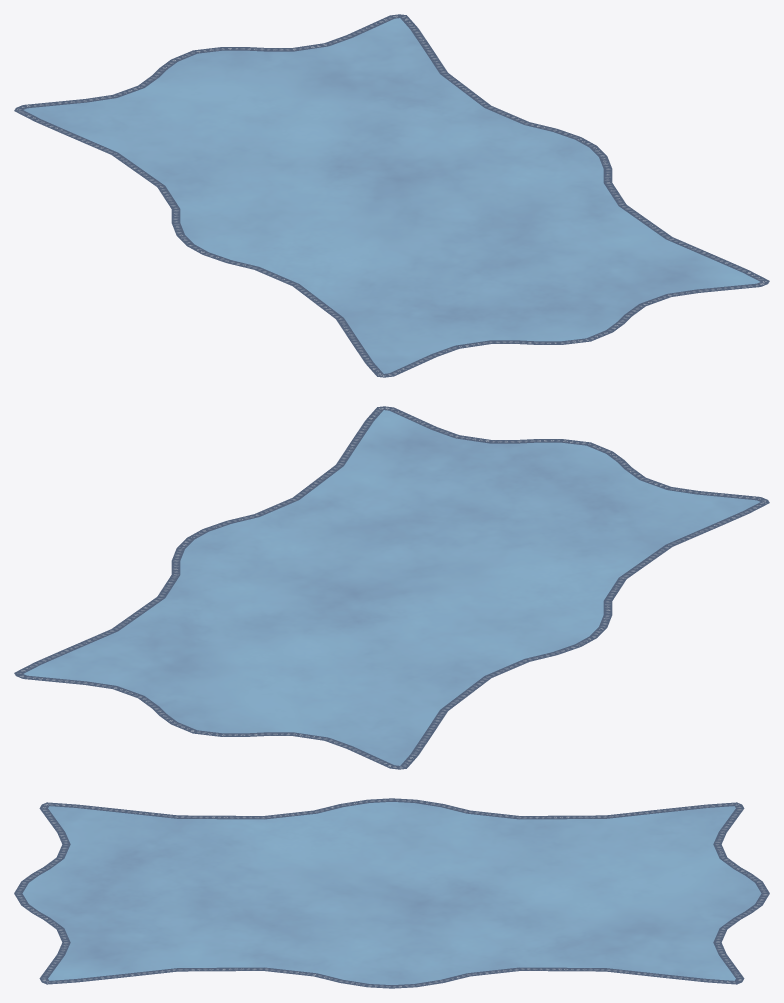
Rendered from Teppich_03.fbx.
The picture shows the model from 3 angles, top to bottom: view 1: azimuth 30°, elevation 25°; view 2: azimuth 150°, elevation 25°; view 3: azimuth 270°, elevation 25°; orthographic projection. The views are drawn at different scales.
Visible parts, largest first — view 1: Teppich_03; view 2: Teppich_03; view 3: Teppich_03.
Boxes of the visible parts, box(x1,y1,x2,y2) form: Teppich_03: box(14, 14, 769, 377); Teppich_03: box(14, 406, 769, 769); Teppich_03: box(14, 798, 769, 988).
Bounding box in the file's own units: 2.19 × 3.41e-11 × 3.68.
